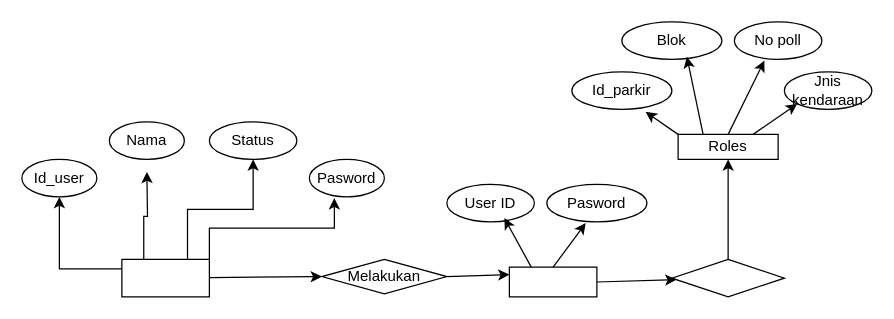
Some shapes in this 894 by 319 pixel diagram are drawn without their labels. Here are the shapes that lost their labels. From the top down, the centre of each, then its label:
At pixel 165 277: "User".
At pixel 552 281: "Login".
At pixel 727 277: "Mendata".
